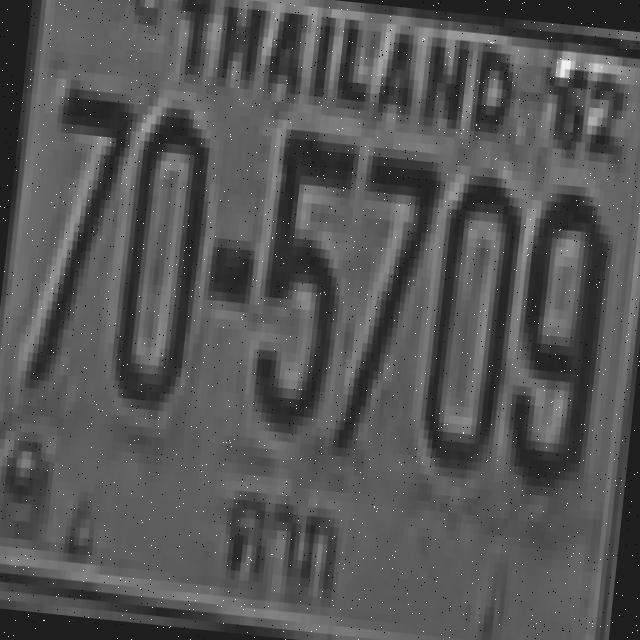0: (108, 95, 214, 404), (415, 164, 521, 472)
5: (246, 119, 357, 428)
7: (330, 146, 441, 454), (28, 78, 134, 386)
9: (501, 177, 612, 486)
Tak: (210, 477, 352, 616)
